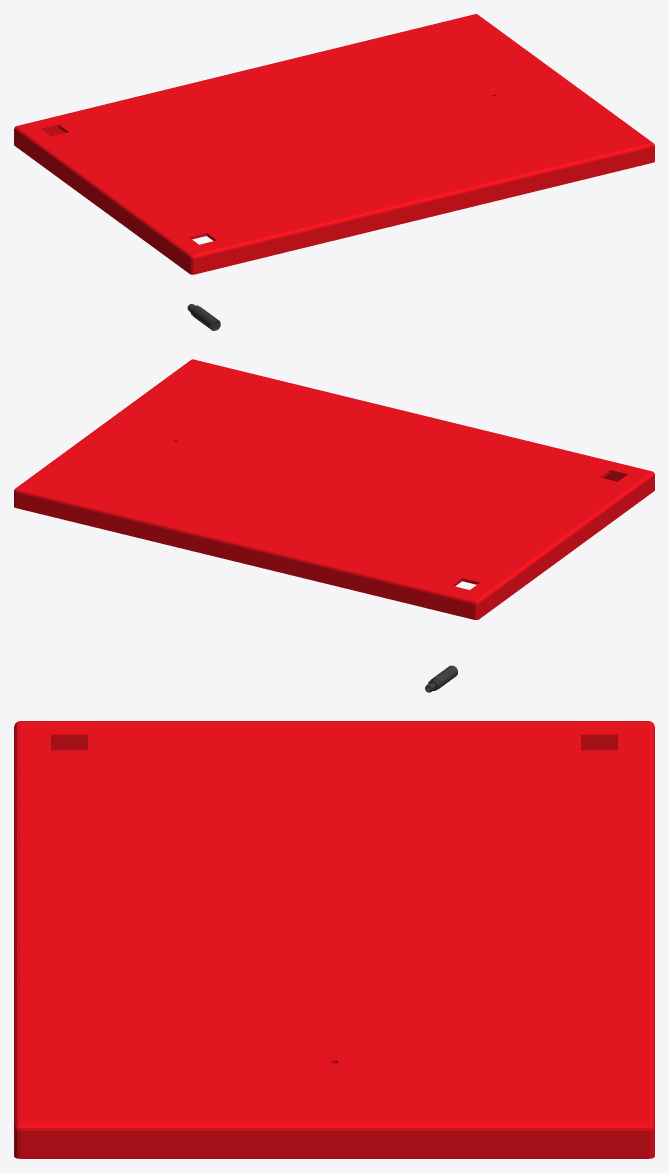
The model's file is Care_UP_Velodyne_Link.dae.
3 renders of one model, top to bottom at view 1: azimuth 30°, elevation 25°; view 2: azimuth 150°, elevation 25°; view 3: azimuth 270°, elevation 25°, orthographic. The views are drawn at different scales.
Visible parts, largest first — view 1: Care UP Velodyne Link; view 2: Care UP Velodyne Link; view 3: Care UP Velodyne Link.
Part boxes in pixels (box(x1,y1,x2,y2)): Care UP Velodyne Link: box(14, 14, 654, 274); Care UP Velodyne Link: box(14, 359, 654, 619); Care UP Velodyne Link: box(14, 721, 654, 1158).
Bounding box in the file's own units: 0.78 × 0.52 × 0.2689.
